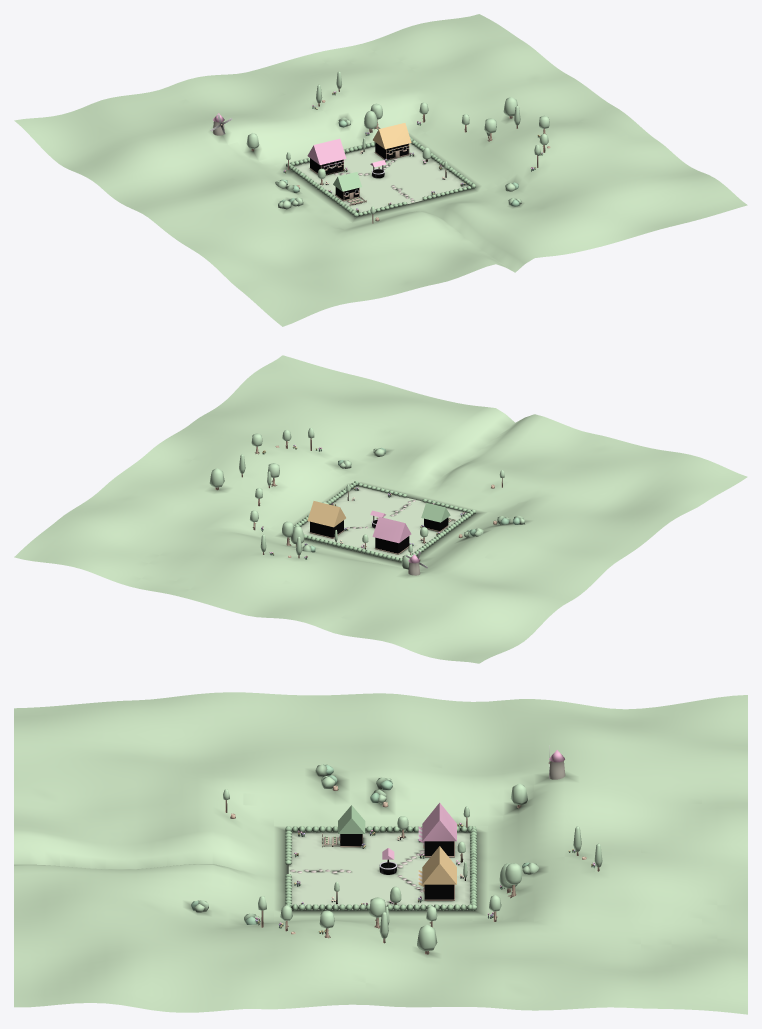
File: env-flower-kingdom.glb
3 renders of one model, top to bottom at view 1: azimuth 30°, elevation 25°; view 2: azimuth 150°, elevation 25°; view 3: azimuth 270°, elevation 25°, orthographic. The views are drawn at different scales.
Visible parts, largest first — view 1: static_grass, static_meadow, static_leaf, static_hedge, static_roof_pink, static_roof_orange; view 2: static_grass, static_meadow, static_leaf, static_hedge, static_roof_pink, static_roof_orange, static_wall_cream; view 3: static_grass, static_meadow, static_leaf, static_hedge, static_roof_pink, static_roof_orange, static_wall_cream, static_trunk, static_leaf2, static_roof_green.
Part boxes in pixels (x1,y1,x2,y2): static_grass: [14, 14, 747, 326]; static_meadow: [294, 143, 468, 214]; static_leaf: [246, 71, 549, 214]; static_hedge: [286, 137, 475, 217]; static_roof_pink: [213, 113, 404, 195]; static_roof_orange: [340, 123, 411, 195]; static_grass: [14, 355, 747, 663]; static_meadow: [301, 485, 467, 561]; static_leaf: [209, 427, 524, 569]; static_hedge: [294, 481, 475, 562]; static_roof_pink: [370, 510, 419, 563]; static_roof_orange: [307, 501, 345, 527]; static_wall_cream: [310, 520, 420, 575]; static_grass: [14, 692, 747, 1014]; static_meadow: [288, 832, 470, 910]; static_leaf: [194, 764, 602, 951]; static_hedge: [285, 826, 476, 910]; static_roof_pink: [339, 750, 564, 888]; static_roof_orange: [339, 838, 456, 889]; static_wall_cream: [339, 761, 565, 899]; static_trunk: [225, 785, 599, 954]; static_leaf2: [191, 765, 595, 934]; static_roof_green: [338, 805, 365, 833].
Size of the model in its own units: 100 by 8.98 by 100.
